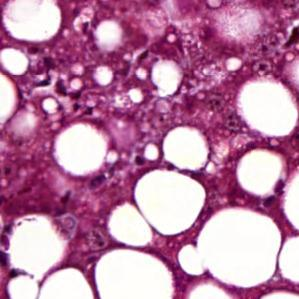steatosis: (94, 250, 173, 299)
